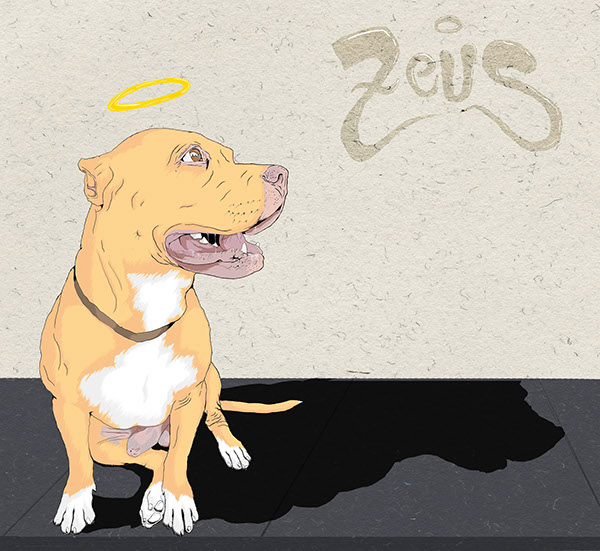dog: (29, 113, 306, 537)
